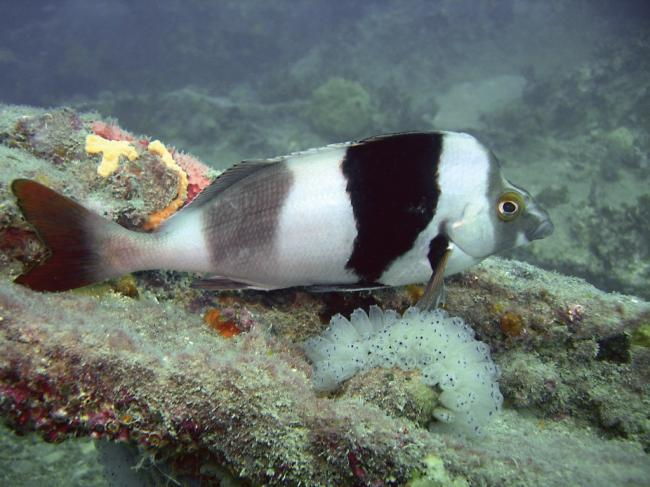fish: (12, 129, 554, 309)
